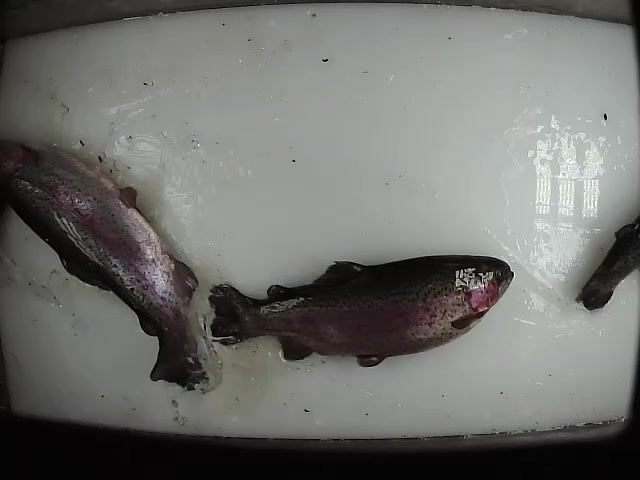fish: (1, 136, 209, 396), (209, 253, 515, 370)
